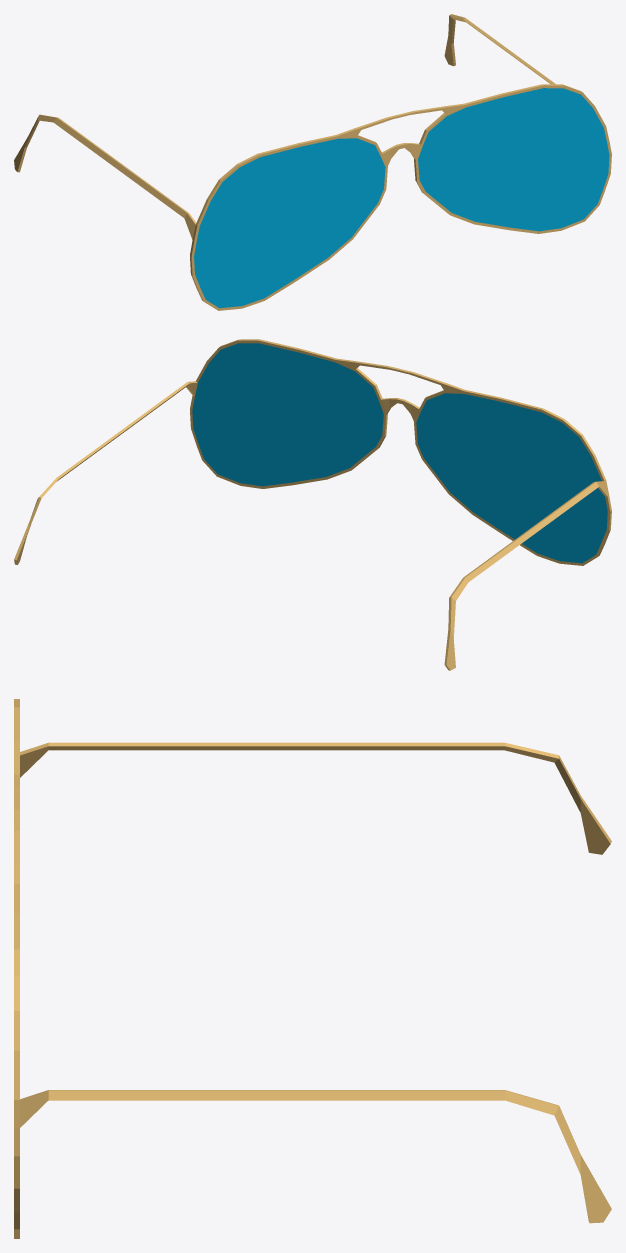
The model's file is Rayban (1).fbx.
3 renders of one model, top to bottom at view 1: azimuth 30°, elevation 25°; view 2: azimuth 150°, elevation 25°; view 3: azimuth 270°, elevation 25°, orthographic. The views are drawn at different scales.
Parts seen in each view (by area): view 1: Rayban; view 2: Rayban; view 3: Rayban.
Part boxes in pixels (<box>): Rayban: <box>14,14,611,310</box>; Rayban: <box>14,339,611,670</box>; Rayban: <box>14,699,611,1238</box>.
Bounding box in the file's own units: 114 × 38.17 × 76.89.
